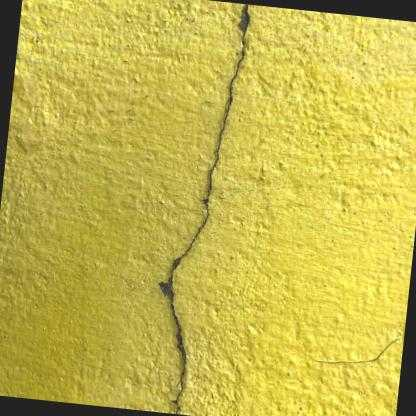crack: (169, 3, 248, 414)
